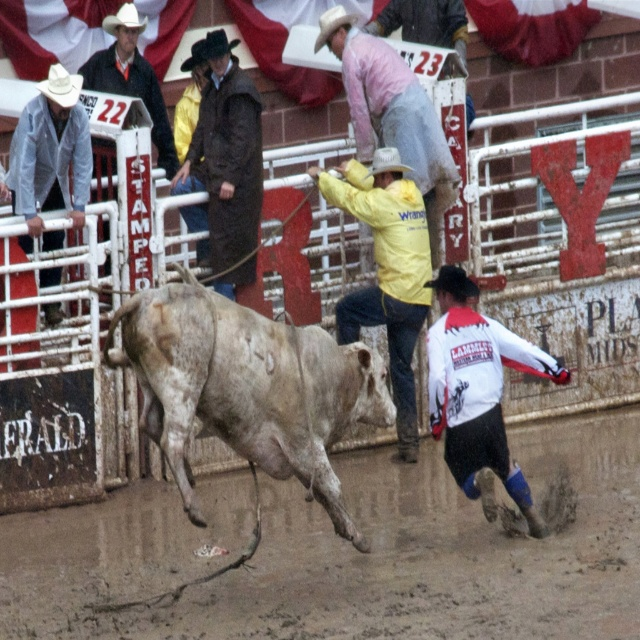Cattle: (104, 282, 397, 554)
